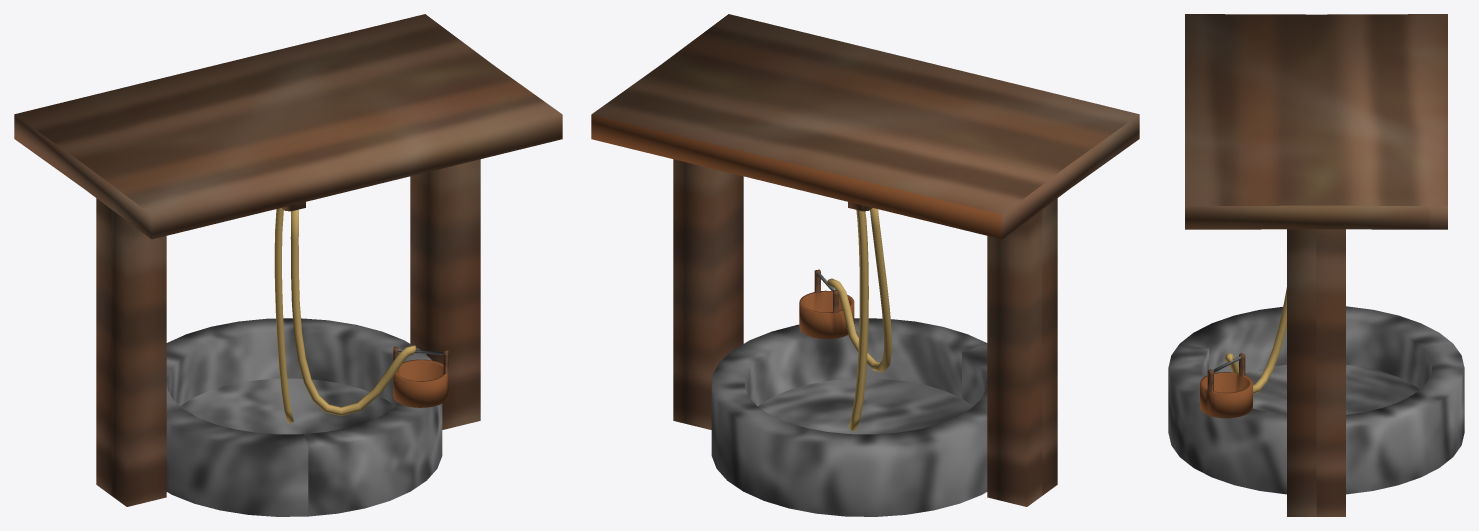
Rendered from Ido_Ver2.fbx.
3 views of the same model, side by side, from view 1: azimuth 30°, elevation 25°; view 2: azimuth 150°, elevation 25°; view 3: azimuth 270°, elevation 25° (orthographic). The views are drawn at different scales.
Parts seen in each view (by area): view 1: himo2; view 2: himo2; view 3: himo2.
Part boxes in pixels (x1,y1,x2,y2): himo2: [14, 14, 562, 516]; himo2: [591, 14, 1139, 516]; himo2: [1168, 14, 1464, 516].
Size of the model in its own units: 722 by 568 by 470.
Materials: 1 (1 with a texture image).
